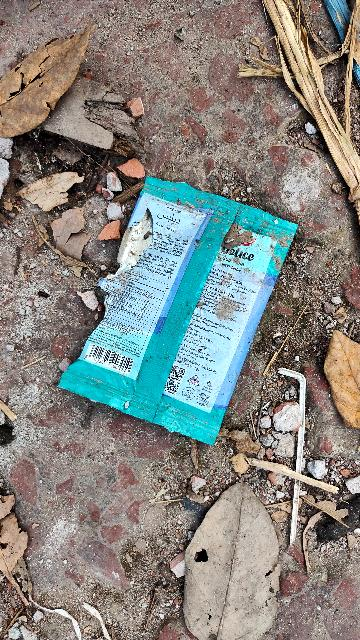packet: (64, 149, 324, 458)
